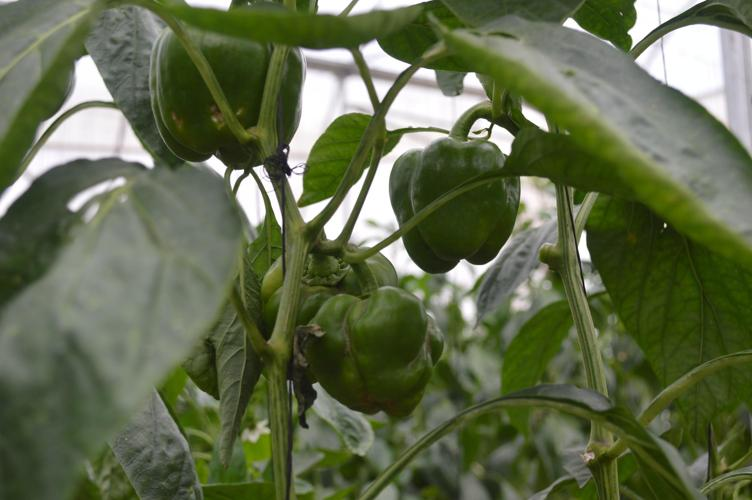BellPepper: (146, 17, 317, 171), (381, 134, 517, 285), (307, 294, 455, 418), (251, 242, 403, 340)
